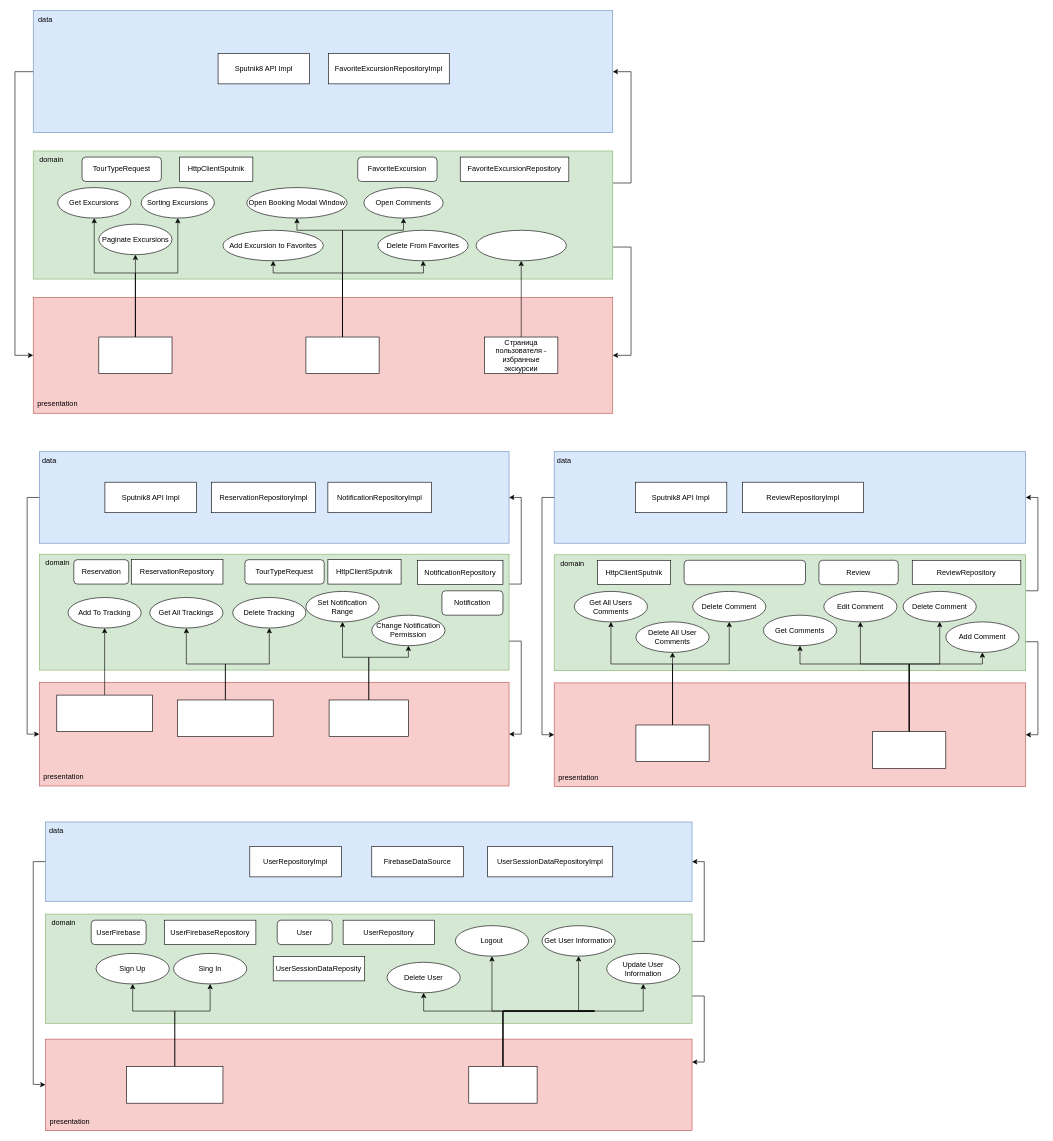
Some shapes in this 1053 by 1141 pixel diagram are drawn without their labels. Each missing label, with the centre of its shape:
Delete All User Favorites: pixel 520 245
TourReviewTypeRequest: pixel 745 572
Информация об экскурсии: pixel 342 355
Модальное окно - бронирование (на странице экскурсии): pixel 104 713
Страница авторизации/регистрации: pixel 174 1084
Страница бронирования: pixel 225 718
Страница пользователя: pixel 502 1084
Страница пользователя - вкладка отзывы: pixel 672 743
Страница пользователя - вкладка уведомления: pixel 368 718
Страница экскурсии - к омментарии: pixel 909 749
Экскурсии: pixel 135 355
